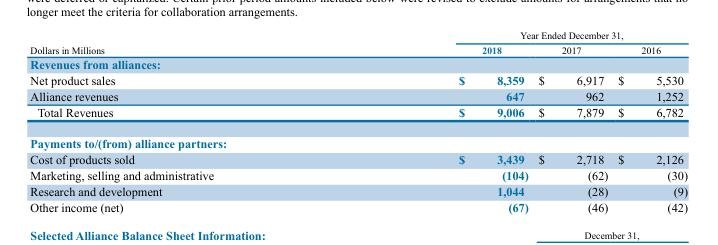table: (29, 29, 687, 213)
table column: (29, 29, 335, 213), (335, 29, 532, 213), (532, 29, 612, 213), (612, 29, 687, 213)
table column header: (29, 29, 687, 55)
table projected row header: (29, 127, 687, 151), (29, 55, 687, 71)
table row: (29, 103, 687, 127), (29, 127, 687, 151), (29, 55, 687, 71), (29, 71, 687, 87), (29, 87, 687, 103), (29, 151, 687, 167), (29, 167, 687, 183), (29, 183, 687, 199), (29, 199, 687, 213), (29, 29, 687, 42), (29, 42, 687, 55)
table spanning cell: (29, 29, 335, 55), (335, 29, 687, 42)
